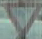Give way: (3, 1, 40, 38)
